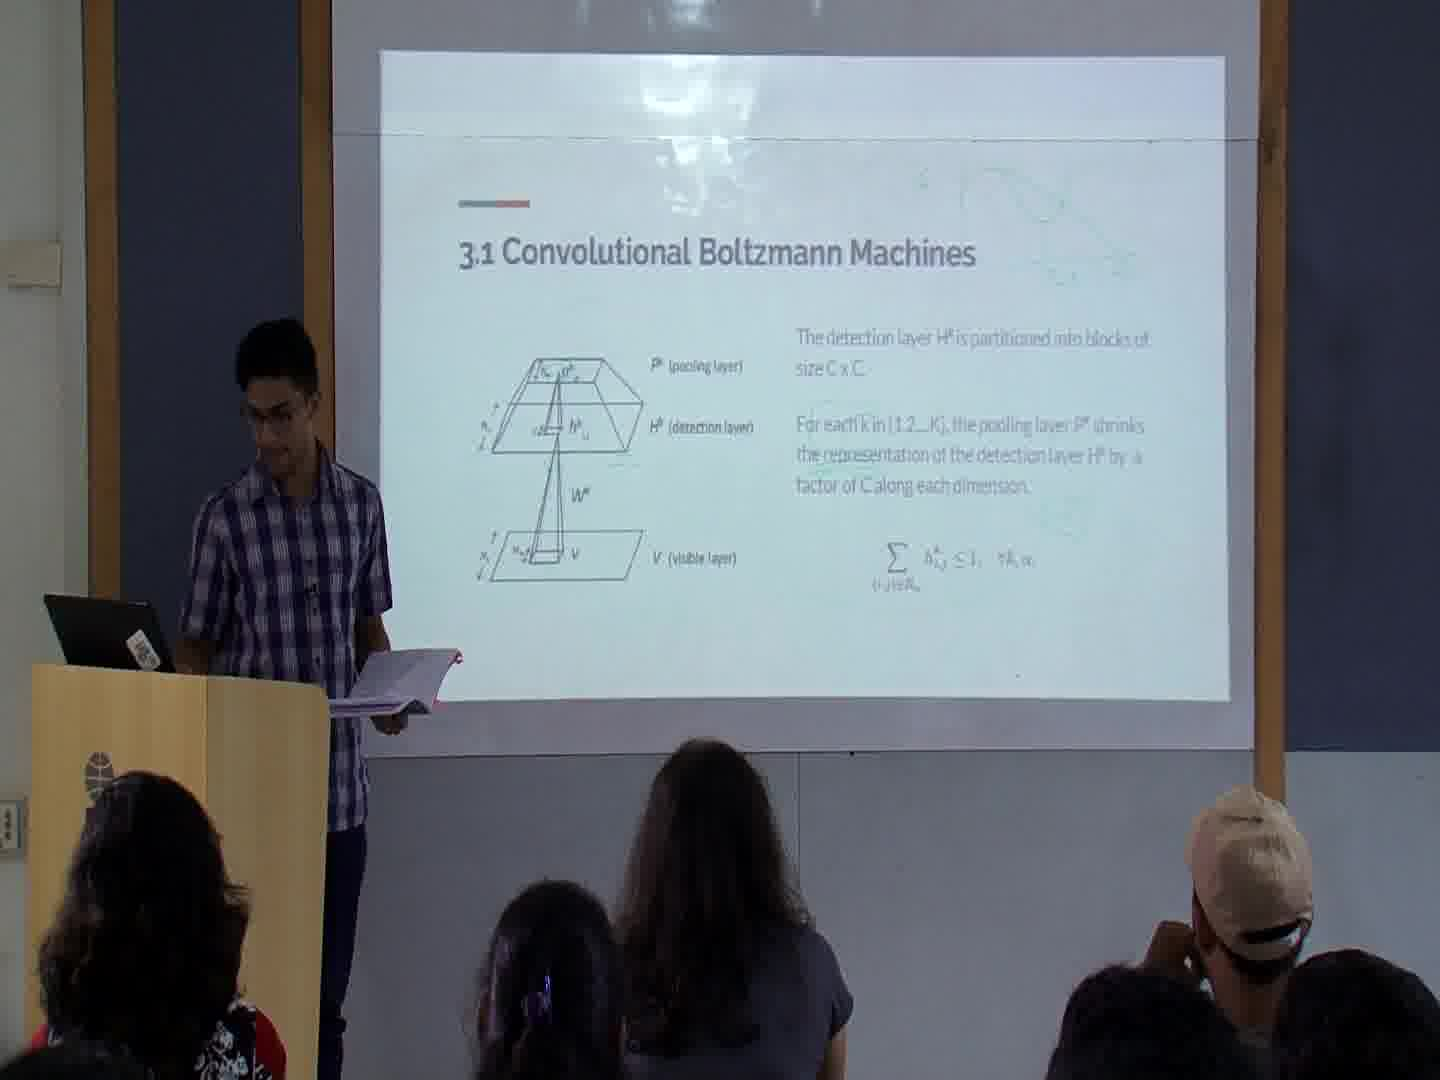eq: (866, 535, 1044, 602)
fig: (461, 351, 650, 587)
